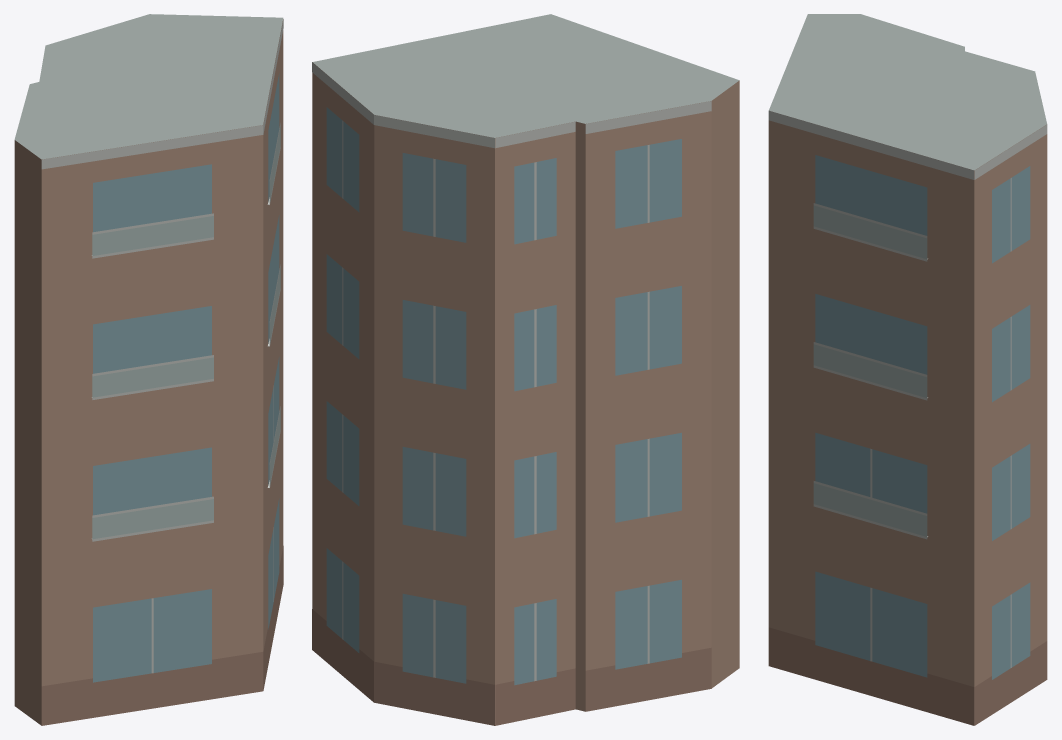
The model's file is survey-upis-32487109.glb.
The picture shows the model from 3 angles, left to right: view 1: azimuth 30°, elevation 25°; view 2: azimuth 150°, elevation 25°; view 3: azimuth 270°, elevation 25°; orthographic projection. The views are drawn at different scales.
Parts seen in each view (by area): view 1: survey-upis-32487109.tmp; view 2: survey-upis-32487109.tmp; view 3: survey-upis-32487109.tmp.
Boxes of the visible parts, left/top/right/bottom form: survey-upis-32487109.tmp: left=14, top=14, right=283, bottom=725; survey-upis-32487109.tmp: left=312, top=14, right=739, bottom=725; survey-upis-32487109.tmp: left=768, top=14, right=1047, bottom=725.
Size of the model in its own units: 8.4 by 13.9 by 6.33.
